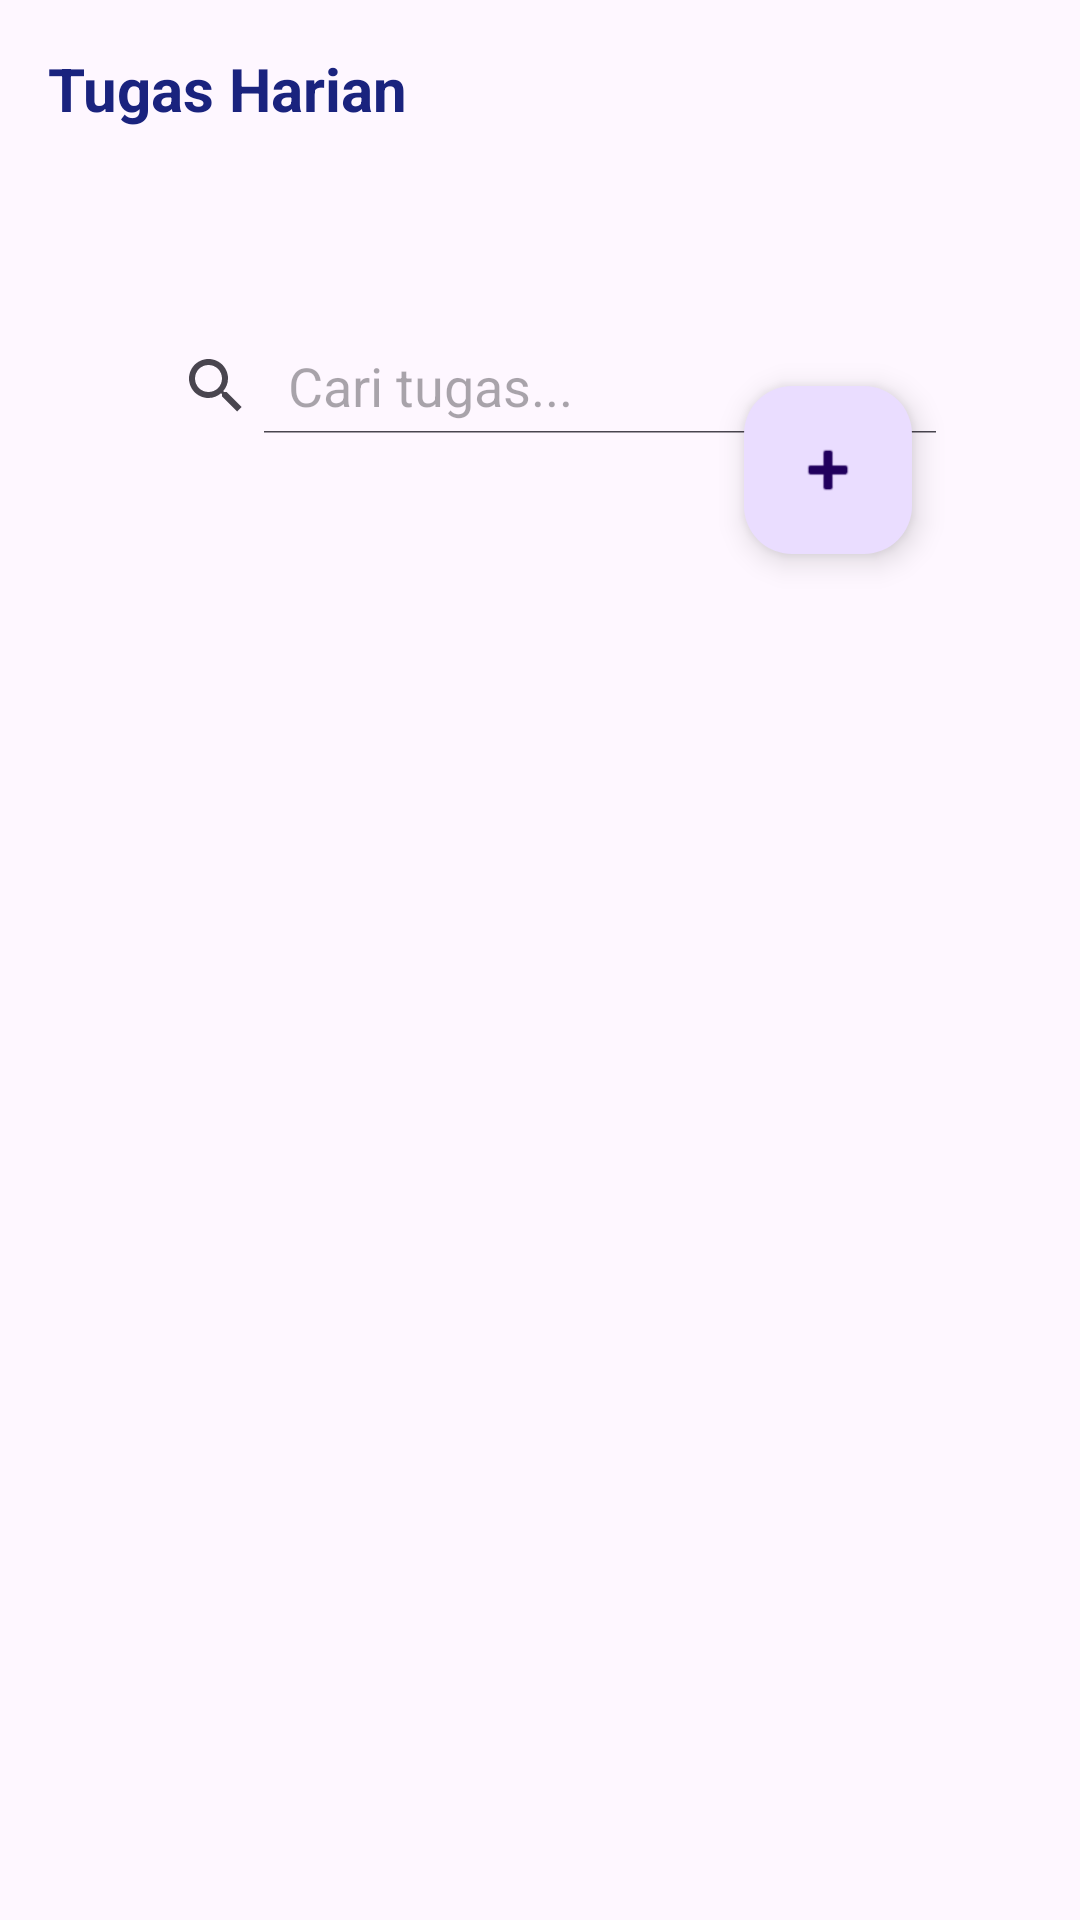

Icons on this 1080w x 1920h Android screen, each with its box as [x1=x1, y1=y1, x2=x2, y2=y2]:
Tambah Tugas: [x1=744, y1=386, x2=912, y2=554]
